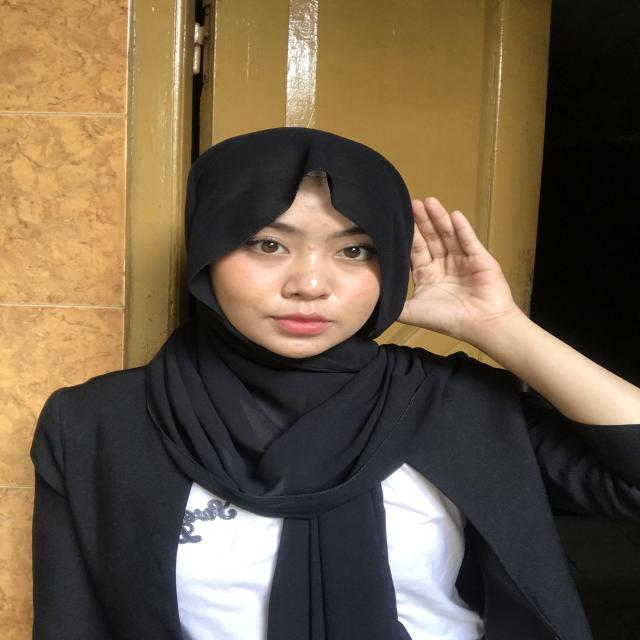mendengar: (372, 184, 532, 367)
